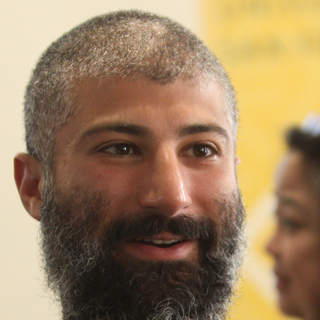eye: (82, 130, 149, 164), (169, 138, 227, 167)
